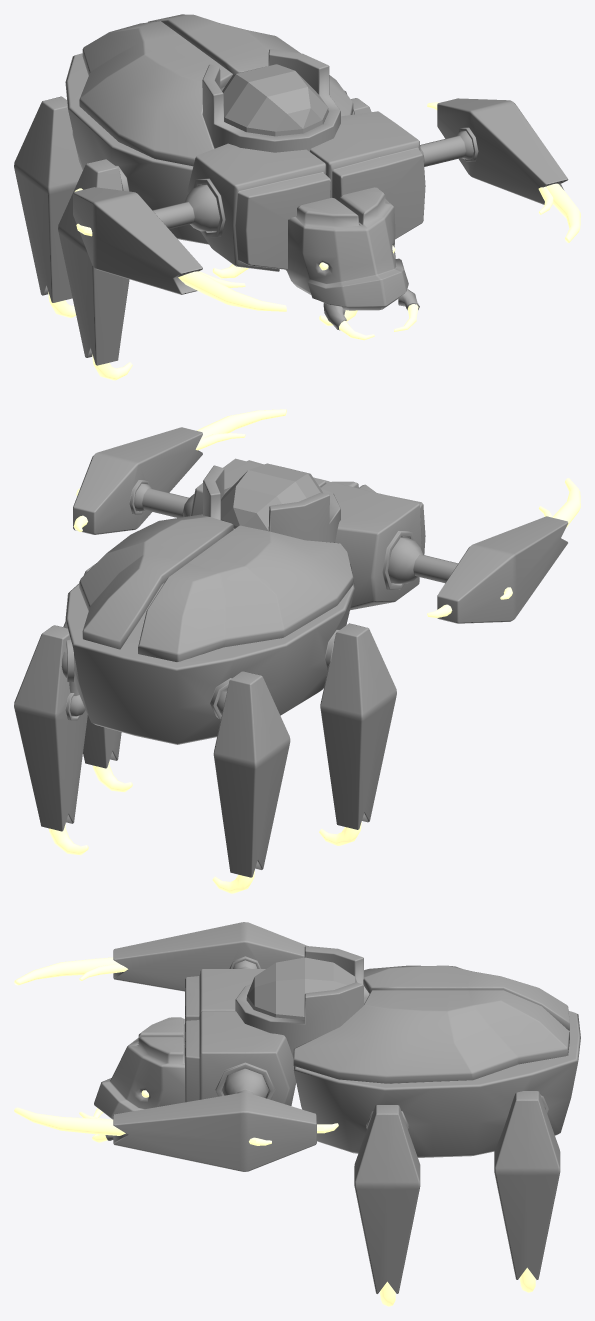
File: StoneBeetle.fbx
3 views of the same model, one above another, from view 1: azimuth 30°, elevation 25°; view 2: azimuth 150°, elevation 25°; view 3: azimuth 270°, elevation 25° (orthographic). The views are drawn at different scales.
Parts seen in each view (by area): view 1: mWingShellL (×2), pCube5 (×2), mTorsoLeft2, mHead, mLeg2, mTorsoLeft3, mLeg1, mBodyBase, mCrystal, mCrystalHolder, mJoint (×2), pCylinder2 (×2) (+2 smaller); view 2: mWingShellL (×2), mLeg2 (×2), mBodyBase, pCube5 (×2), mLeg1 (×2), mTorsoLeft2, mCrystal, mCrystalHolder, mJoint (×2), pCylinder2 (×2), mTorsoLeft3; view 3: mWingShellL (×2), pCube5 (×2), mBodyBase, mLeg1, mLeg2, mTorsoLeft3, mHead, mCrystalHolder, mCrystal, mTorsoLeft2, pCylinder2 (×2), mJoint.
Part boxes in pixels (bbox=[...]): mWingShellL (×2): bbox=[79, 14, 353, 166]; pCube5 (×2): bbox=[73, 98, 568, 294]; mTorsoLeft2: bbox=[187, 143, 330, 271]; mHead: bbox=[285, 187, 408, 310]; mLeg2: bbox=[14, 96, 82, 302]; mTorsoLeft3: bbox=[310, 111, 425, 239]; mLeg1: bbox=[58, 159, 129, 365]; mBodyBase: bbox=[65, 53, 354, 244]; mCrystal: bbox=[222, 64, 328, 136]; mCrystalHolder: bbox=[202, 49, 340, 152]; mJoint (×2): bbox=[153, 131, 473, 231]; pCylinder2 (×2): bbox=[178, 183, 580, 311]; mWingShellL (×2): bbox=[79, 514, 353, 661]; mLeg2 (×2): bbox=[14, 625, 290, 877]; mBodyBase: bbox=[65, 564, 354, 744]; pCube5 (×2): bbox=[73, 427, 568, 623]; mLeg1 (×2): bbox=[63, 563, 396, 829]; mTorsoLeft2: bbox=[321, 481, 425, 610]; mCrystal: bbox=[221, 463, 322, 531]; mCrystalHolder: bbox=[203, 465, 340, 542]; mJoint (×2): bbox=[134, 483, 458, 583]; pCylinder2 (×2): bbox=[197, 409, 580, 527]; mTorsoLeft3: bbox=[190, 458, 328, 515]; mWingShellL (×2): bbox=[293, 965, 569, 1083]; pCube5 (×2): bbox=[113, 922, 316, 1171]; mBodyBase: bbox=[293, 1011, 580, 1157]; mLeg1: bbox=[354, 1105, 420, 1293]; mLeg2: bbox=[494, 1091, 560, 1279]; mTorsoLeft3: bbox=[185, 1011, 296, 1105]; mHead: bbox=[94, 1017, 184, 1119]; mCrystalHolder: bbox=[235, 946, 369, 1058]; mCrystal: bbox=[246, 957, 357, 1019]; mTorsoLeft2: bbox=[185, 969, 265, 1022]; pCylinder2 (×2): bbox=[14, 957, 125, 1135]; mJoint: bbox=[222, 1068, 268, 1097].
Bounding box in the file's own units: 119 × 81.36 × 145.
